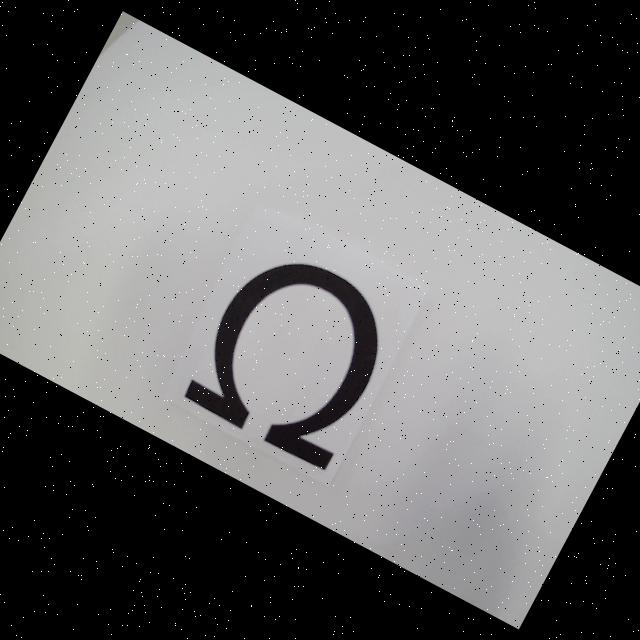OMEGA: (180, 236, 412, 474)
